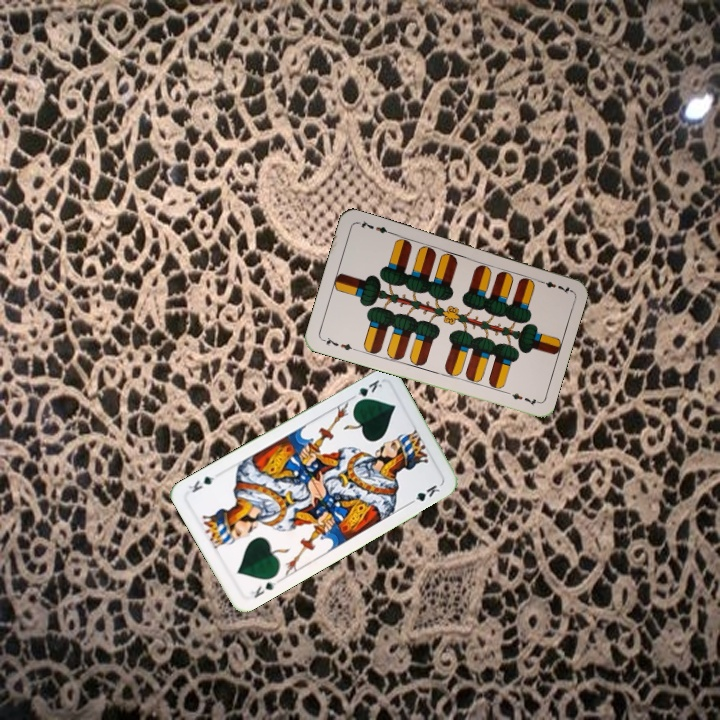E7: (533, 275, 573, 296), (318, 333, 358, 353)
GK: (347, 375, 385, 406), (247, 578, 279, 601)
